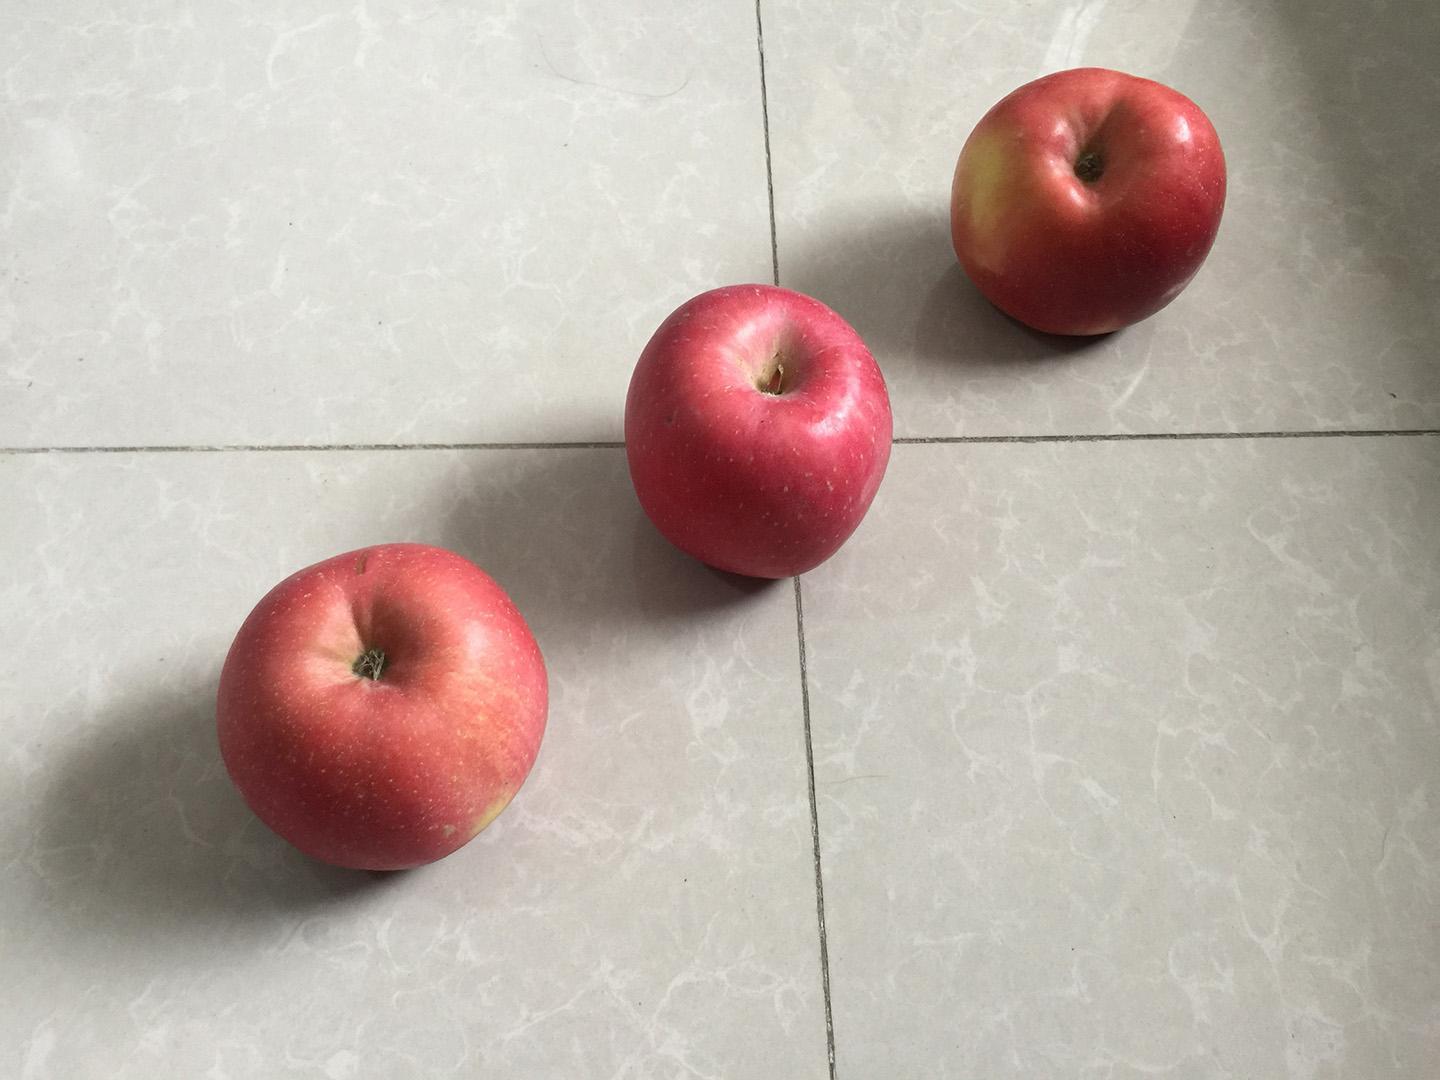apple: (211, 535, 557, 879), (618, 275, 903, 596), (942, 61, 1231, 343)
